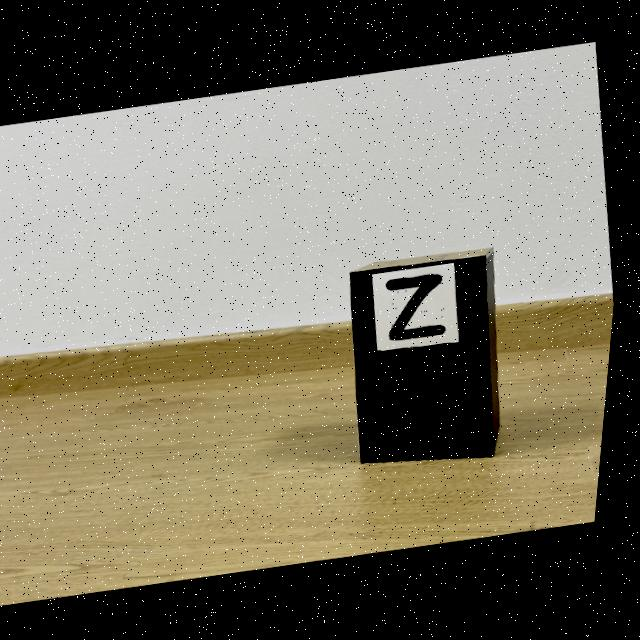Z: (392, 273, 451, 340)
